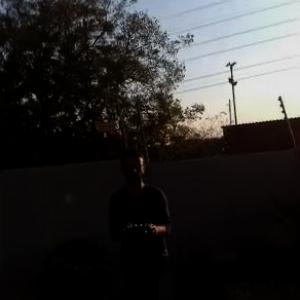follow: (104, 140, 178, 299)
